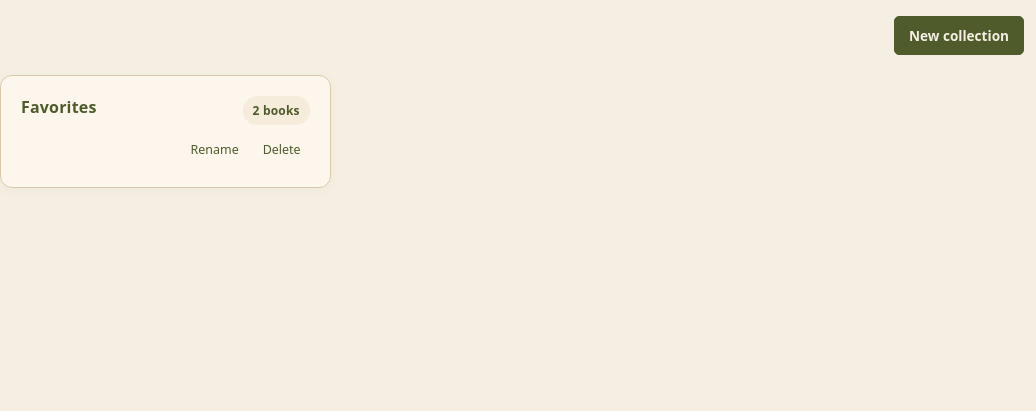
it: CollectionsManager › ignores a preexisting refresh after a successful rename and reloads confirmed data
Check: the link "Favorites" is shown, box top-left (21, 96), bottom-right (97, 118)
Click the button with aria-label "Rename Favorites" at [215, 150], box top-left (182, 133), bottom-right (248, 167)
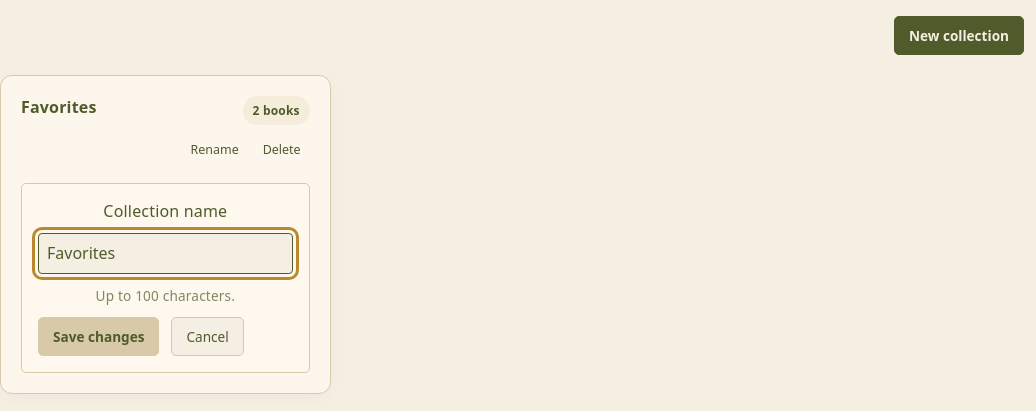
Replace the text in the field labelled "Collection name" with "Updated" at [165, 253], box top-left (38, 233), bottom-right (293, 274)
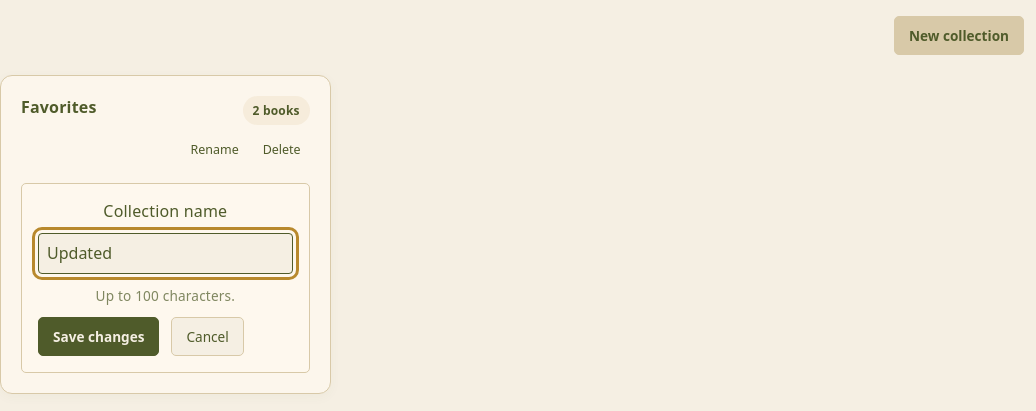
Click the button "Save changes" at [99, 337], box top-left (38, 317), bottom-right (160, 356)
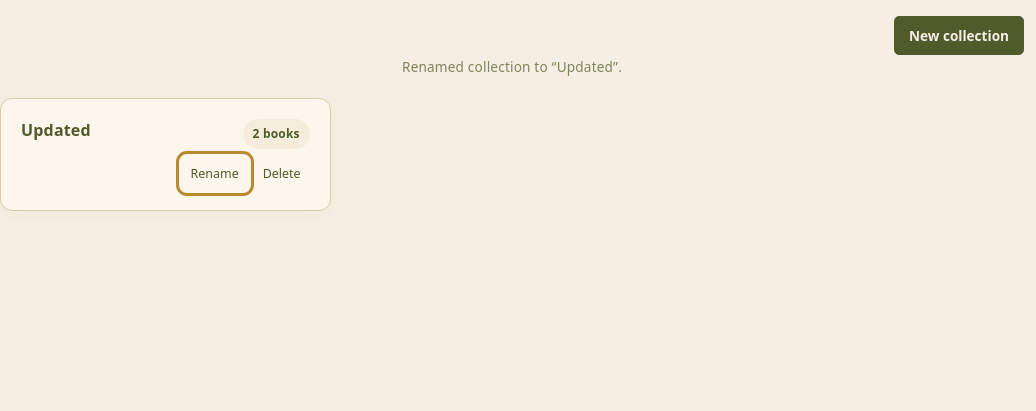
Check: the link "Updated" is shown, box top-left (21, 119), bottom-right (91, 141)
Check: the link "Favorites" is gone
Check: the message shows "Renamed collection to “Updated”", box top-left (402, 57), bottom-right (622, 76)
